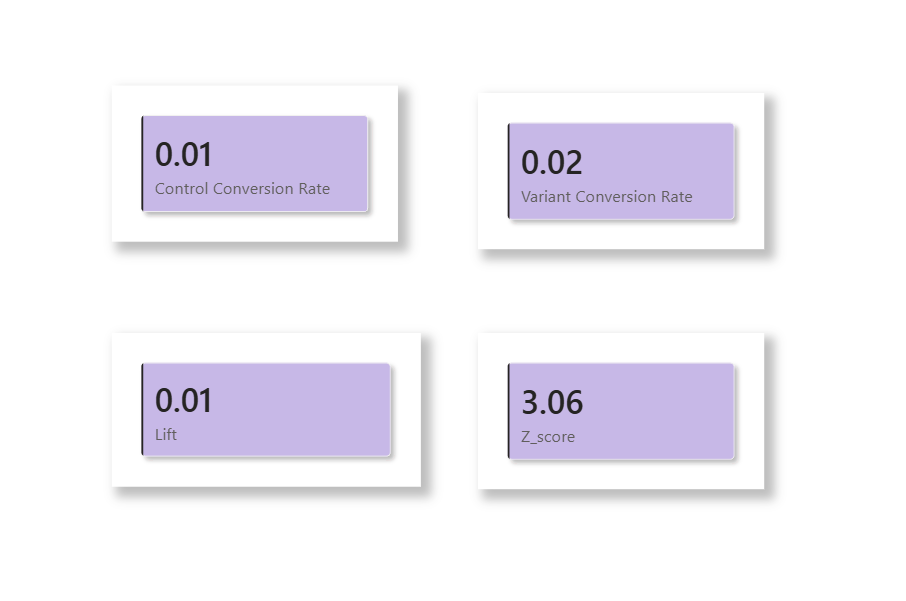

This screenshot's page, from the dashboard's own definition file:
{"tool":"powerbi","page":{"name":"Page 2","canvas":[1280,720],"ordinal":1},"visuals":[{"type":"cardVisual","fields":{"Data":["Sum(ab_test_stats.rate_control)"]},"box":[18,76,280,153],"z":0},{"type":"cardVisual","fields":{"Data":["Sum(ab_test_stats.rate_variant)"]},"box":[377,83,280,153],"z":1000},{"type":"cardVisual","fields":{"Data":["Sum(ab_test_stats.lift)"]},"box":[18,318,302,150],"z":2000},{"type":"cardVisual","fields":{"Data":["Sum(ab_test_stats.z_score)"]},"box":[377,318,280,153],"z":3000}]}

Visuals, with their boxes on the page's 1280x720 design canvas (x1, y1, x2, y2). These are canvas units, not pixel positions in the 906x601 screenshot, which may show the page scaled, cropped or inside an application window:
cardVisual - Sum(ab_test_stats.rate_control): locate(18, 76, 298, 229)
cardVisual - Sum(ab_test_stats.rate_variant): locate(377, 83, 657, 236)
cardVisual - Sum(ab_test_stats.lift): locate(18, 318, 320, 468)
cardVisual - Sum(ab_test_stats.z_score): locate(377, 318, 657, 471)
